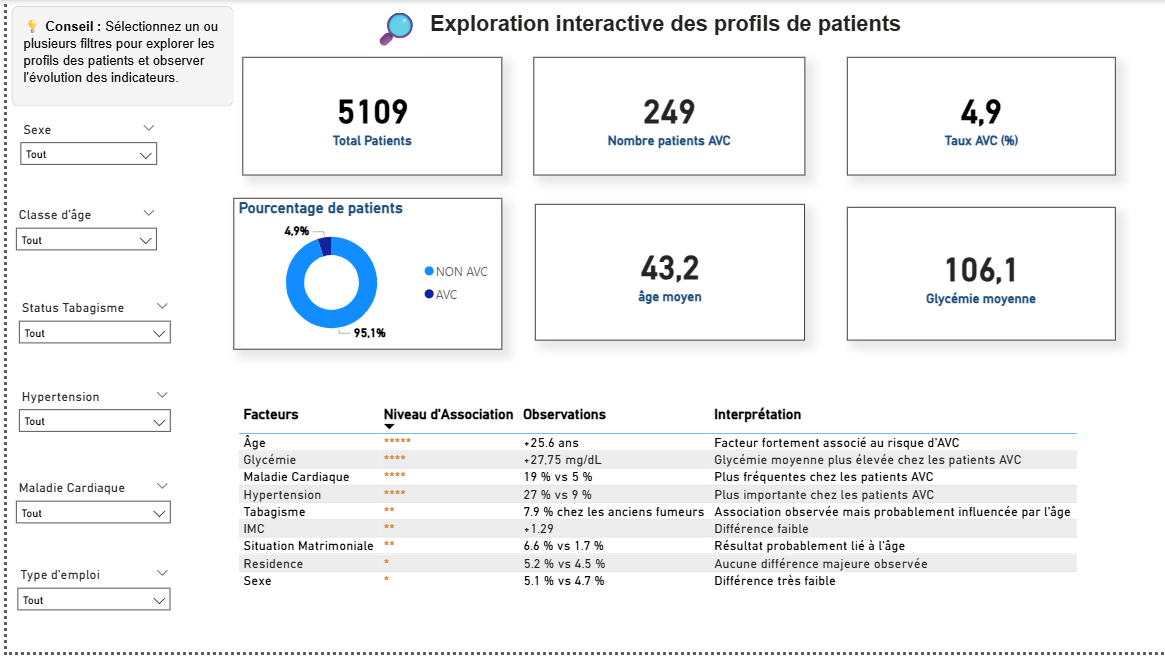

The dashboard page shown, as its layout file describes it:
{"tool":"powerbi","page":{"name":"Exploration des profils de patients","canvas":[1280,720],"ordinal":3},"visuals":[{"type":"textbox","box":[462.2,6.6,538.4,43.1],"z":0},{"type":"slicer","fields":{"Values":["Patients.Maladie Cardiaque"]},"box":[0,525.1,190.5,96.1],"z":1000},{"type":"slicer","fields":{"Values":["Patients.Classe âge"]},"box":[0,223.6,175.6,86.1],"z":2000},{"type":"slicer","fields":{"Values":["Patients.smoking_status"]},"box":[3.3,326.3,187.2,97.7],"z":3000},{"type":"slicer","fields":{"Values":["Patients.work_type"]},"box":[1.7,621.2,188.8,99.4],"z":4000},{"type":"slicer","fields":{"Values":["Patients.gender"]},"box":[5,129.2,170.6,96.1],"z":5000},{"type":"slicer","fields":{"Values":["Patients.Hypertension_cat"]},"box":[3.3,424.1,187.2,101],"z":6000},{"type":"donutChart","title":"Pourcentage de patients ","fields":{"Category":["Patients.Statut AVC"],"Y":["CountNonNull(Patients.Statut AVC)"]},"box":[250.1,218.7,296.5,167.3],"z":7000},{"type":"card","fields":{"Values":["Patients.Total Patients"]},"box":[260.1,62.9,286.6,130.9],"z":8000},{"type":"card","fields":{"Values":["Patients.Nombre patients AVC"]},"box":[581.4,62.9,299.8,130.9],"z":9000},{"type":"card","fields":{"Values":["Patients.Taux AVC"]},"box":[927.6,62.9,296.5,130.9],"z":10000},{"type":"tableEx","fields":{"Values":["table_synthese_facteurs.Facteurs","table_synthese_facteurs.Niveau d'Association","table_synthese_facteurs.Observations","table_synthese_facteurs.Interprétation"]},"box":[250.1,442.3,945.9,228.6],"z":11000},{"type":"card","fields":{"Values":["Patients.âge moyen"]},"box":[583.1,225.3,298.2,150.7],"z":12000},{"type":"card","fields":{"Values":["Avg(Patients.avg_glucose_level)"]},"box":[927.6,228.6,296.5,147.4],"z":13000},{"type":"shape","box":[5,6.6,245.2,111],"z":14000},{"type":"textbox","box":[13.3,13.3,236.9,97.7],"z":15000},{"type":"textbox","box":[399.2,0,58,61.3],"z":16000}]}

Visuals, with their boxes in screenshot pixels (x1, y1, x2, y2), scaled from the page's 1280x720 canvas onto the 1165x657 screenshot:
textbox: <bbox>421, 6, 911, 45</bbox>
slicer - Patients.Maladie Cardiaque: <bbox>0, 479, 173, 567</bbox>
slicer - Patients.Classe âge: <bbox>0, 204, 160, 283</bbox>
slicer - Patients.smoking_status: <bbox>3, 298, 173, 387</bbox>
slicer - Patients.work_type: <bbox>2, 567, 173, 656</bbox>
slicer - Patients.gender: <bbox>5, 118, 160, 206</bbox>
slicer - Patients.Hypertension_cat: <bbox>3, 387, 173, 479</bbox>
"Pourcentage de patients " donutChart: <bbox>228, 200, 497, 352</bbox>
card - Patients.Total Patients: <bbox>237, 57, 498, 177</bbox>
card - Patients.Nombre patients AVC: <bbox>529, 57, 802, 177</bbox>
card - Patients.Taux AVC: <bbox>844, 57, 1114, 177</bbox>
tableEx - table_synthese_facteurs.Facteurs x table_synthese_facteurs.Niveau d'Association: <bbox>228, 404, 1089, 612</bbox>
card - Patients.âge moyen: <bbox>531, 206, 802, 343</bbox>
card - Avg(Patients.avg_glucose_level): <bbox>844, 209, 1114, 343</bbox>
shape: <bbox>5, 6, 228, 107</bbox>
textbox: <bbox>12, 12, 228, 101</bbox>
textbox: <bbox>363, 0, 416, 56</bbox>
